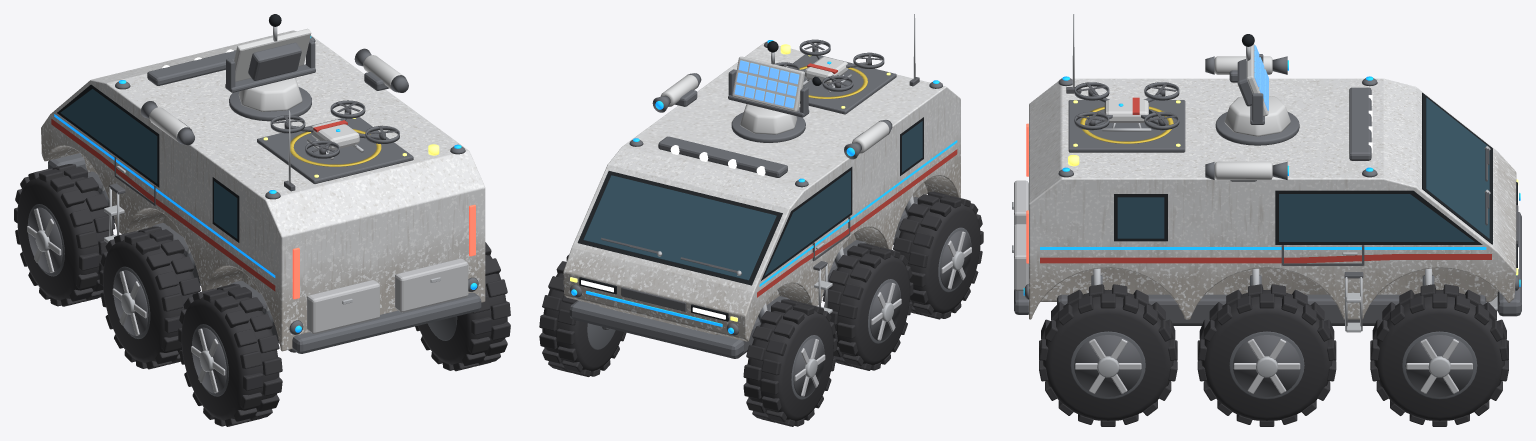
The model's file is survey_rover_mk3.glb.
The picture shows the model from 3 angles, left to right: view 1: azimuth 30°, elevation 25°; view 2: azimuth 150°, elevation 25°; view 3: azimuth 270°, elevation 25°; orthographic projection. The views are drawn at different scales.
Parts seen in each view (by area): view 1: Hull, WheelRLTyre, WheelFLTyre, WheelMLTyre, DronePad, SideGlass-1, RearBumper, LockerB, Locker, WheelRRTyre, TurretBody, Flash-1 (+17 smaller); view 2: Hull, Windscreen, WheelFLTyre, WheelMLTyre, WheelRLTyre, FrontBumper, SideGlass-1, WindscreenSurround, DronePad, WheelFRTyre, LightBar, ArrayHead (+16 smaller); view 3: Hull, WheelRRTyre, WheelFRTyre, WheelMRTyre, SideGlass1, Windscreen, DronePad, Flash1, Skirt, WheelRRDisc, WheelFRDisc, WheelMRDisc (+18 smaller).
Boxes of the visible parts, x1,y1,x2,y2 form: Hull: (41, 30, 485, 351); WheelRLTyre: (181, 292, 279, 420); WheelFLTyre: (17, 172, 113, 300); WheelMLTyre: (103, 234, 197, 363); DronePad: (257, 117, 413, 183); SideGlass-1: (60, 89, 157, 183); RearBumper: (292, 292, 481, 353); LockerB: (395, 258, 468, 312); Locker: (307, 280, 379, 333); WheelRRTyre: (418, 255, 507, 364); TurretBody: (238, 77, 302, 111); Flash-1: (51, 119, 275, 291); Hull: (563, 42, 960, 341); Windscreen: (583, 175, 776, 280); WheelFLTyre: (746, 306, 833, 421); WheelMLTyre: (824, 250, 910, 365); WheelRLTyre: (897, 199, 980, 313); FrontBumper: (569, 300, 744, 358); SideGlass-1: (764, 170, 850, 275); WindscreenSurround: (577, 171, 782, 285); DronePad: (787, 54, 896, 114); WheelFRTyre: (542, 273, 623, 371); LightBar: (658, 136, 787, 177); ArrayHead: (732, 56, 804, 111); Hull: (1029, 78, 1516, 319); WheelRRTyre: (1043, 289, 1173, 420); WheelFRTyre: (1374, 289, 1504, 420); WheelMRTyre: (1201, 290, 1332, 420); SideGlass1: (1279, 194, 1474, 241); Windscreen: (1426, 97, 1489, 238); DronePad: (1068, 100, 1185, 152); Flash1: (1040, 254, 1491, 263); Skirt: (1057, 294, 1486, 325); WheelRRDisc: (1074, 335, 1142, 396); WheelFRDisc: (1405, 335, 1473, 396); WheelMRDisc: (1233, 335, 1300, 396).
Size of the model in its own units: 3.5 by 3.87 by 5.46.
Materials: 17 (1 with a texture image).
